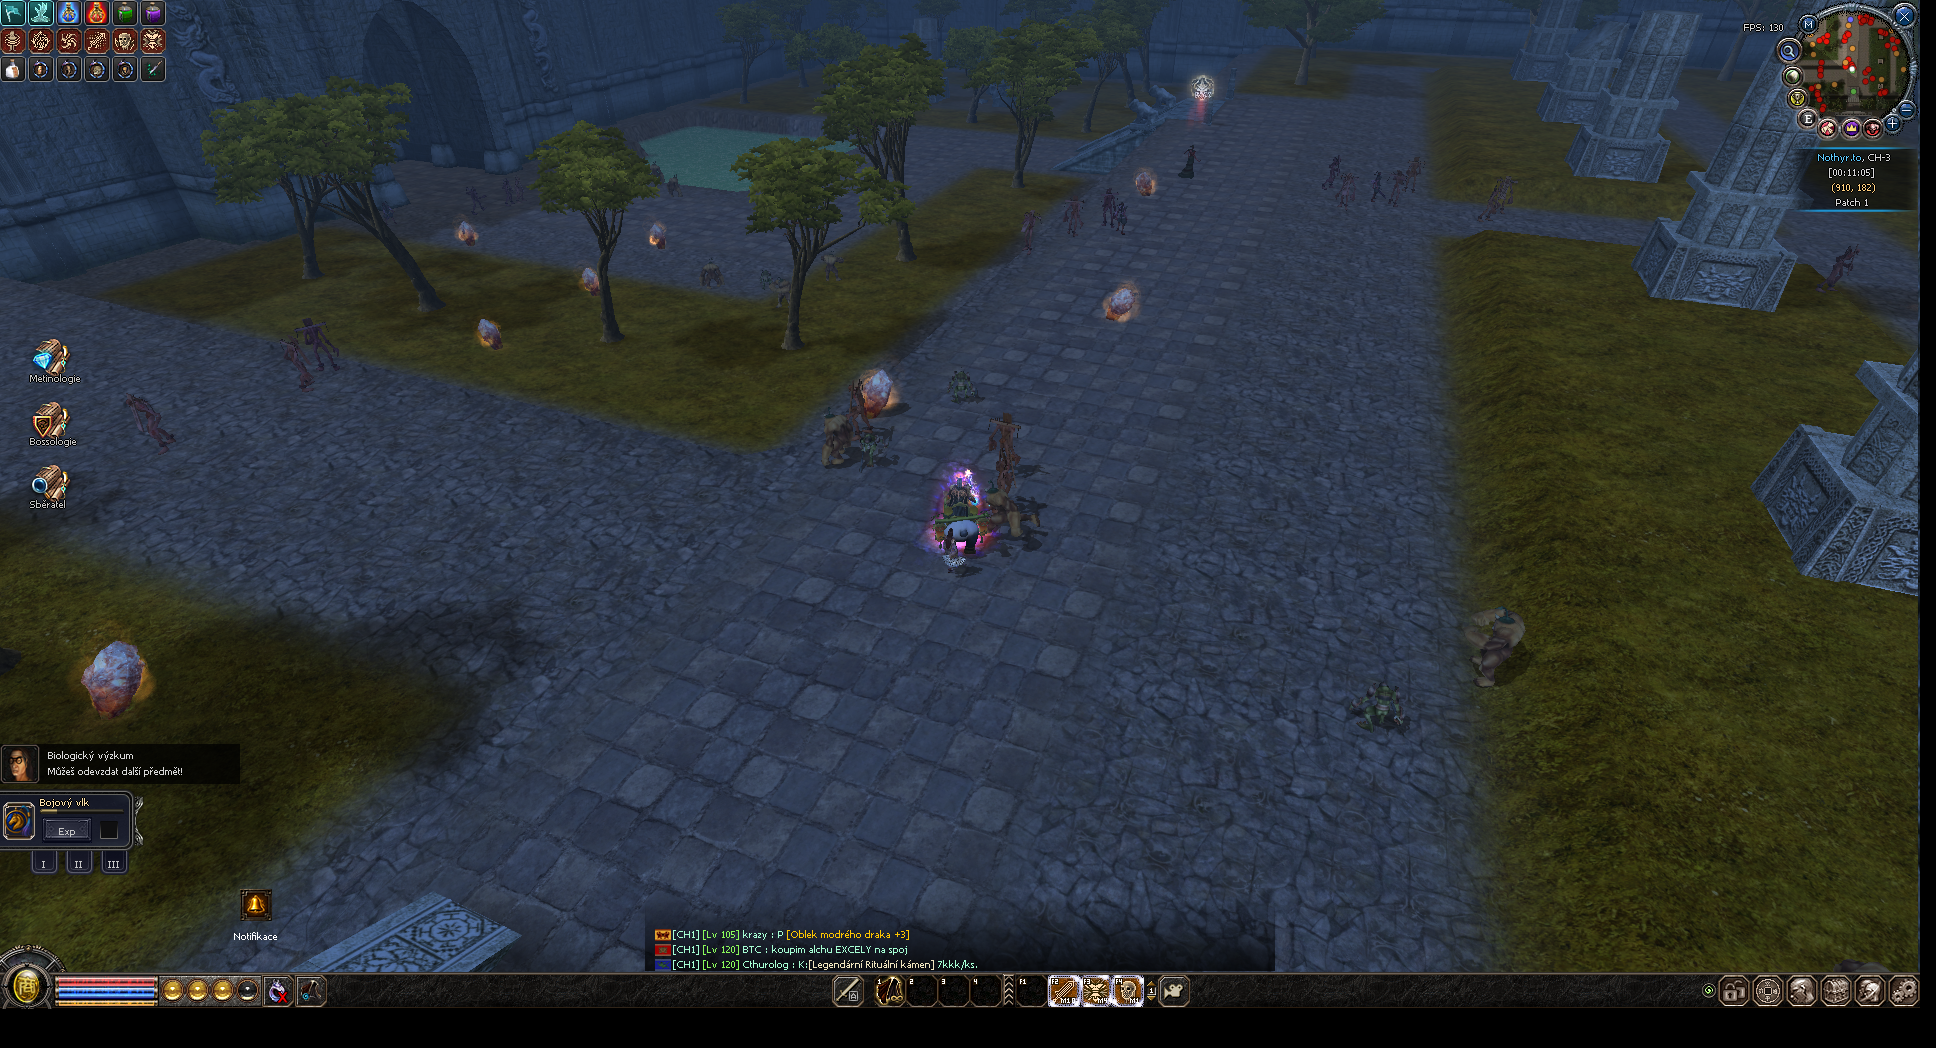Boss: (1176, 76, 1215, 178)
Buff: (83, 641, 145, 716), (860, 369, 892, 418), (1105, 281, 1138, 321), (476, 319, 502, 348), (1133, 169, 1156, 197), (454, 219, 478, 245), (580, 268, 600, 296), (648, 221, 666, 248)
Enemy: (1465, 607, 1526, 687), (1347, 681, 1409, 732), (124, 394, 176, 453), (983, 489, 1042, 539), (987, 412, 1022, 493), (297, 317, 341, 372), (1816, 245, 1860, 292), (277, 339, 314, 392), (822, 413, 857, 467), (1479, 177, 1517, 221), (856, 427, 889, 469), (760, 270, 791, 308), (949, 369, 980, 404), (1064, 197, 1083, 237), (1336, 173, 1356, 208), (1322, 155, 1342, 190), (1021, 210, 1038, 253), (1387, 169, 1406, 207), (700, 259, 723, 287), (466, 186, 485, 216), (502, 178, 521, 207), (1407, 156, 1422, 191), (1102, 188, 1116, 226), (823, 254, 842, 280), (1369, 170, 1384, 201), (1115, 200, 1127, 235), (666, 174, 681, 197), (650, 163, 663, 185)
Me: (929, 469, 986, 551)
Statue: (934, 520, 965, 572)
